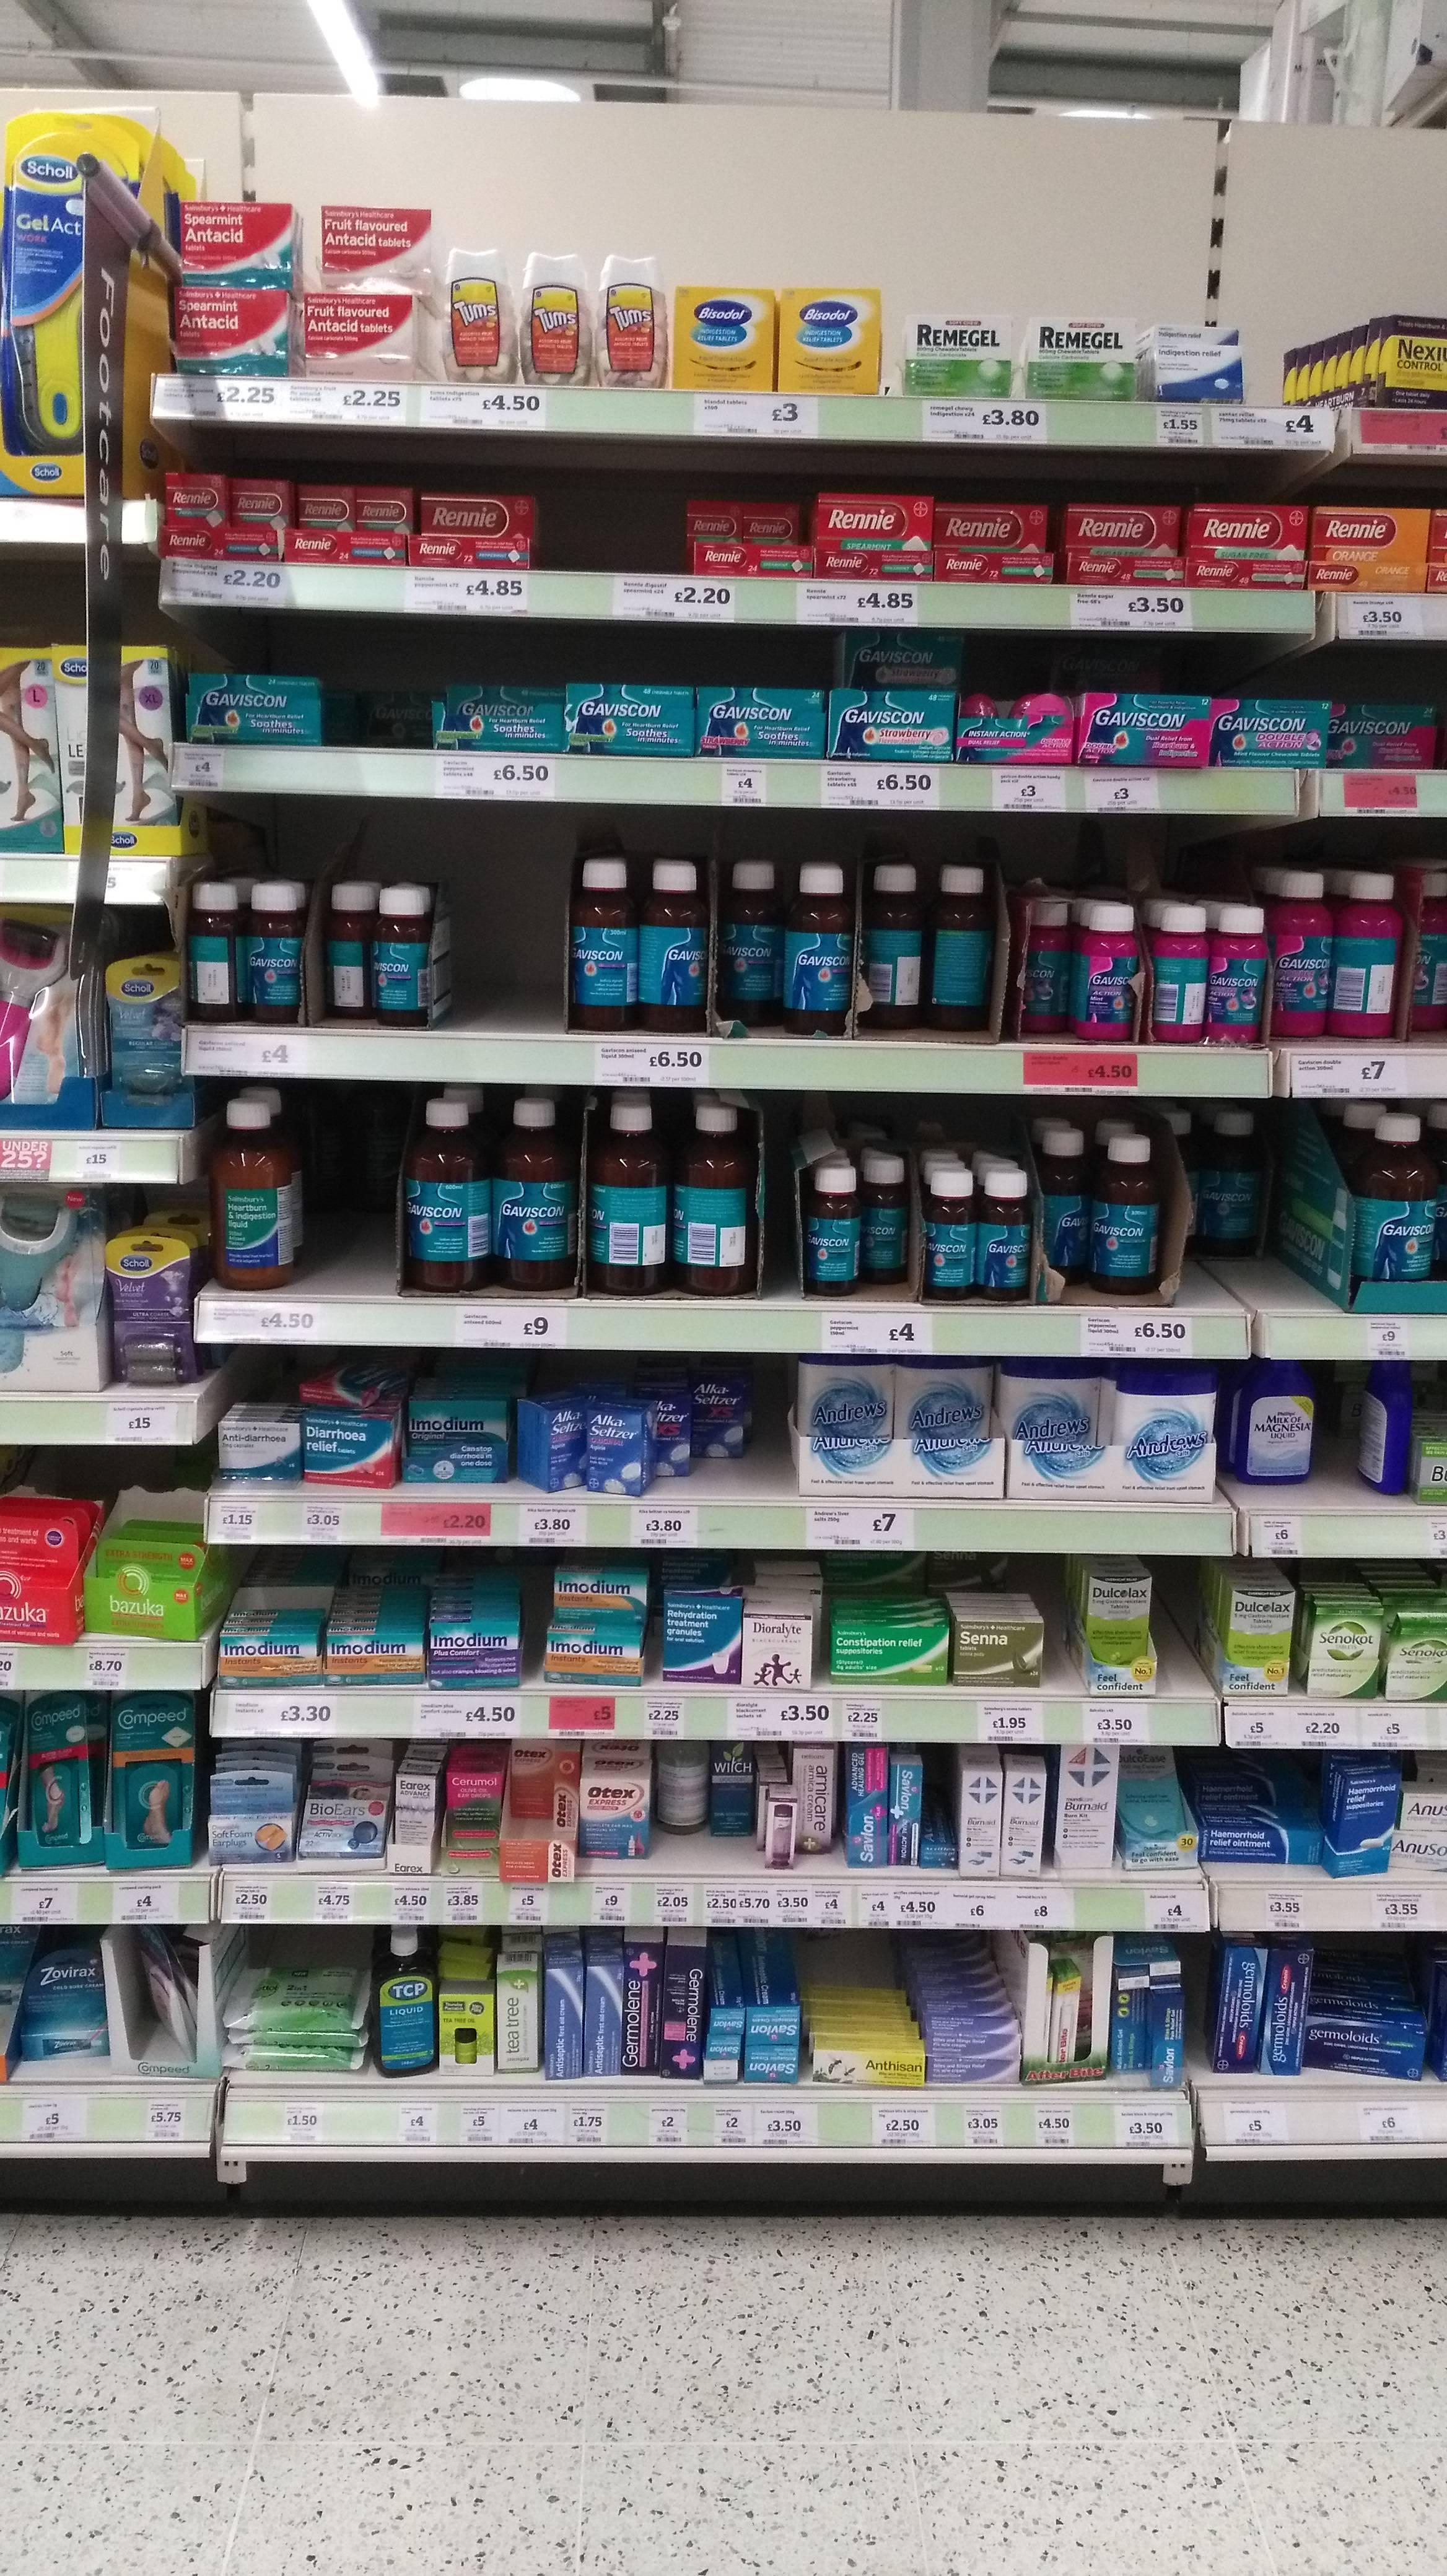empty: (283, 1104, 400, 1276), (444, 860, 559, 1030), (1198, 1159, 1302, 1304), (538, 479, 672, 570), (1153, 1560, 1228, 1706), (318, 656, 433, 748)
